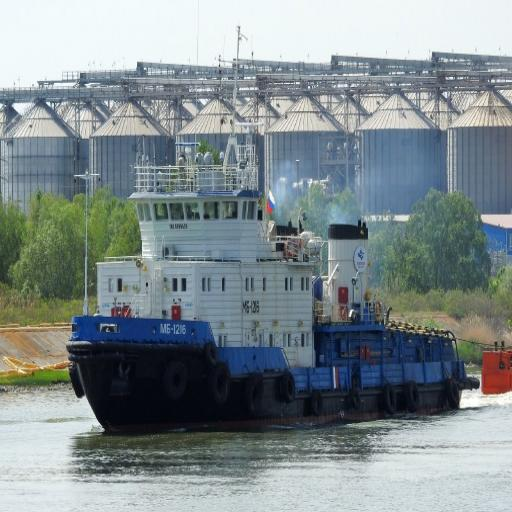tugboat: (58, 119, 482, 432)
